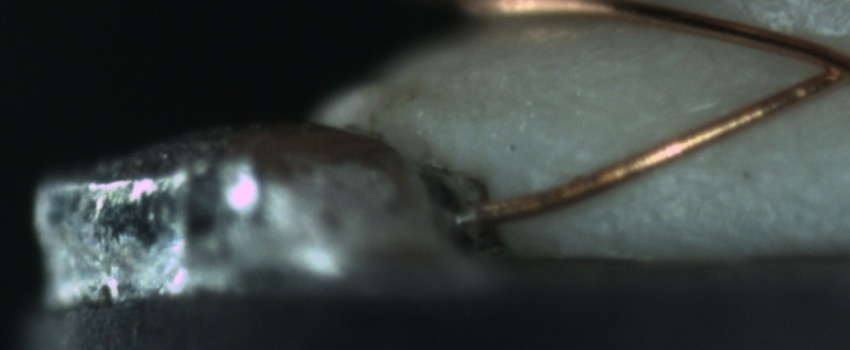CL: (797, 36, 849, 93)
TS: (450, 202, 479, 230)
